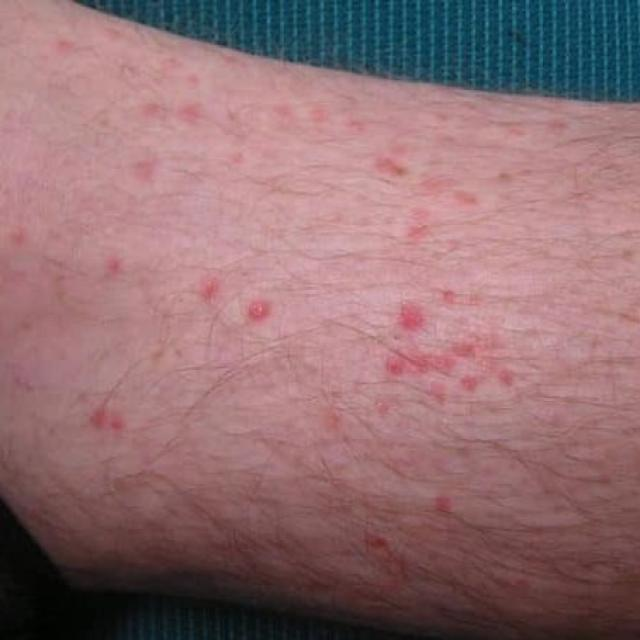kan emici bocekler: (7, 110, 634, 582)
